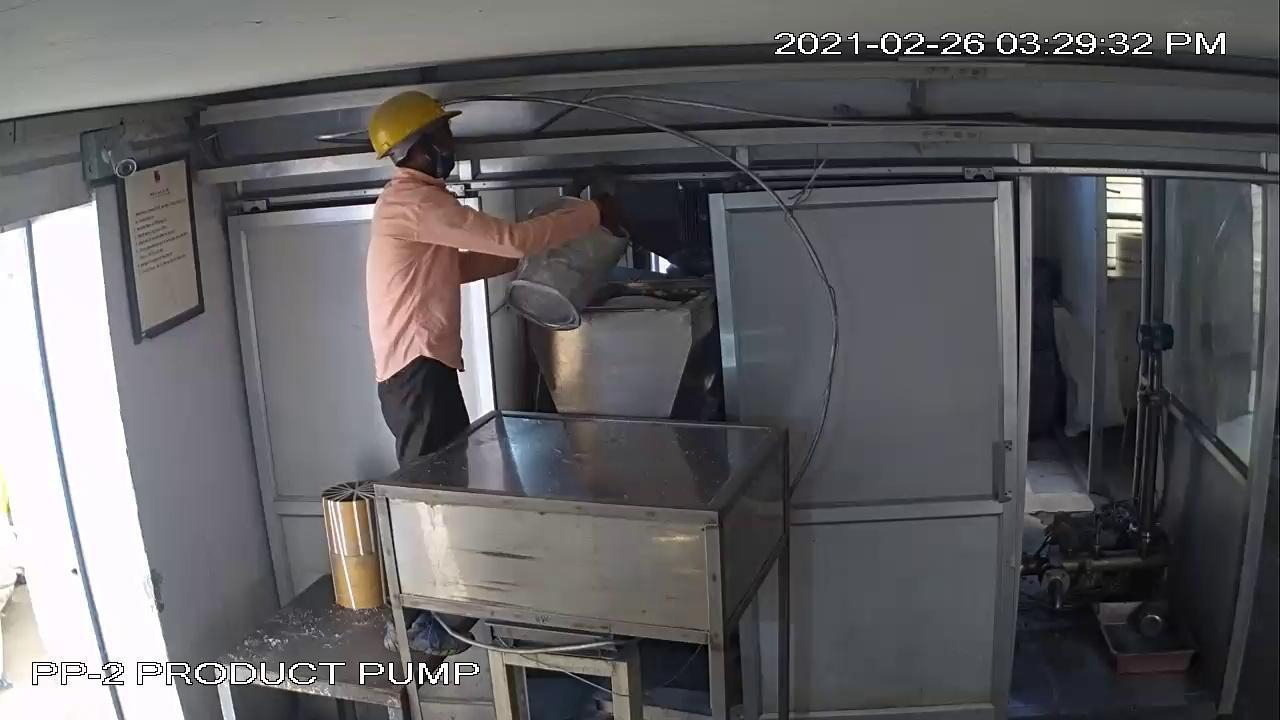helmet: (355, 91, 468, 160)
